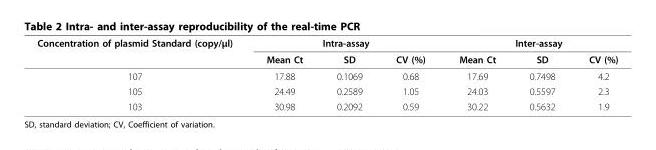table: (36, 36, 617, 111)
table column: (36, 36, 248, 111), (248, 36, 319, 111), (441, 36, 511, 111), (378, 36, 441, 111), (511, 36, 571, 111), (319, 36, 378, 111), (571, 36, 617, 111)
table column header: (36, 36, 617, 67)
table row: (36, 50, 617, 67), (36, 67, 617, 83), (36, 83, 617, 98), (36, 36, 617, 50), (36, 98, 617, 111)
table spanning cell: (36, 36, 248, 67), (248, 36, 441, 50), (441, 36, 617, 50)
